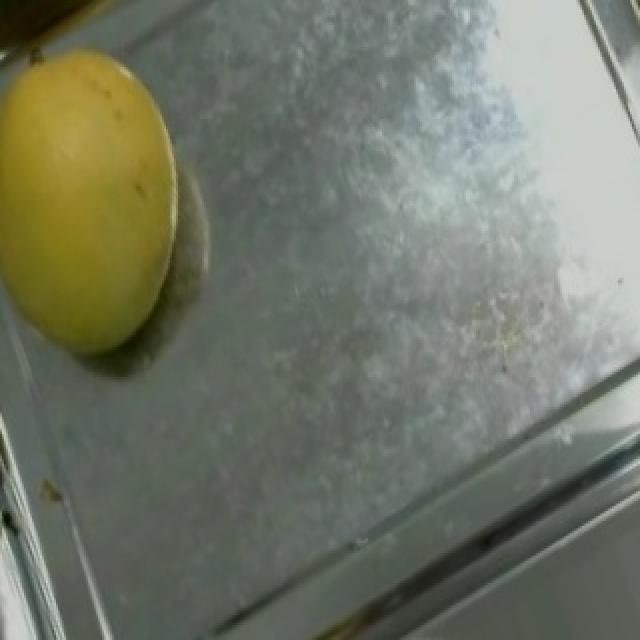fruit: (0, 10, 258, 387)
